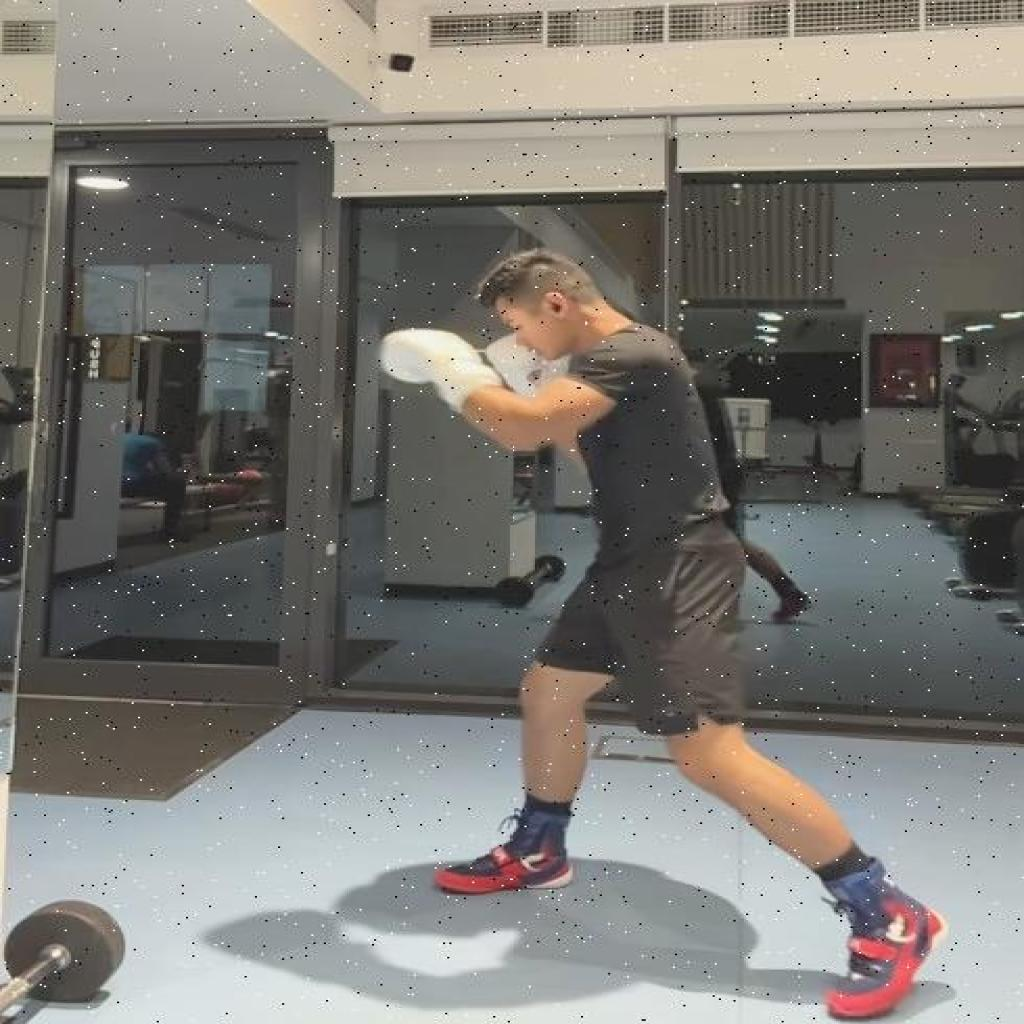no punch: (372, 246, 955, 1024)
